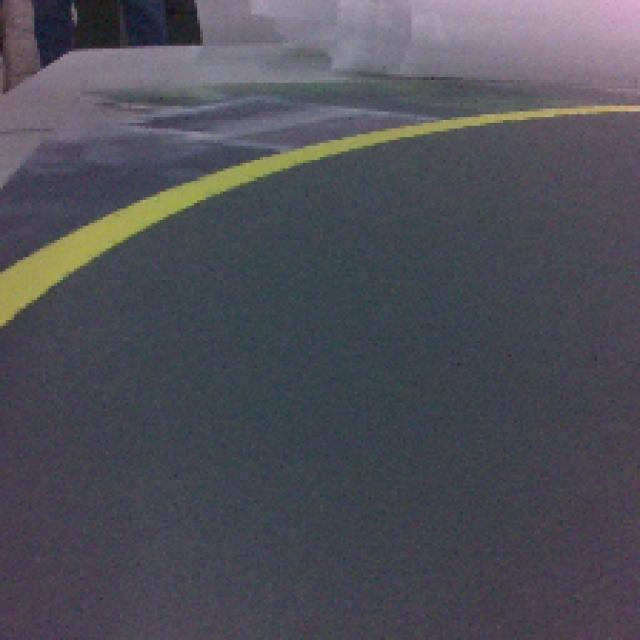Road: (0, 274, 639, 640)
